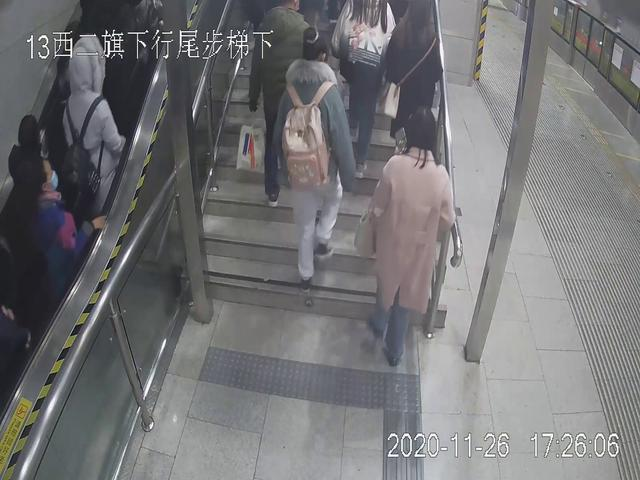person: (265, 23, 354, 292), (367, 110, 459, 363), (55, 35, 128, 196), (328, 1, 388, 175), (382, 1, 442, 152)
